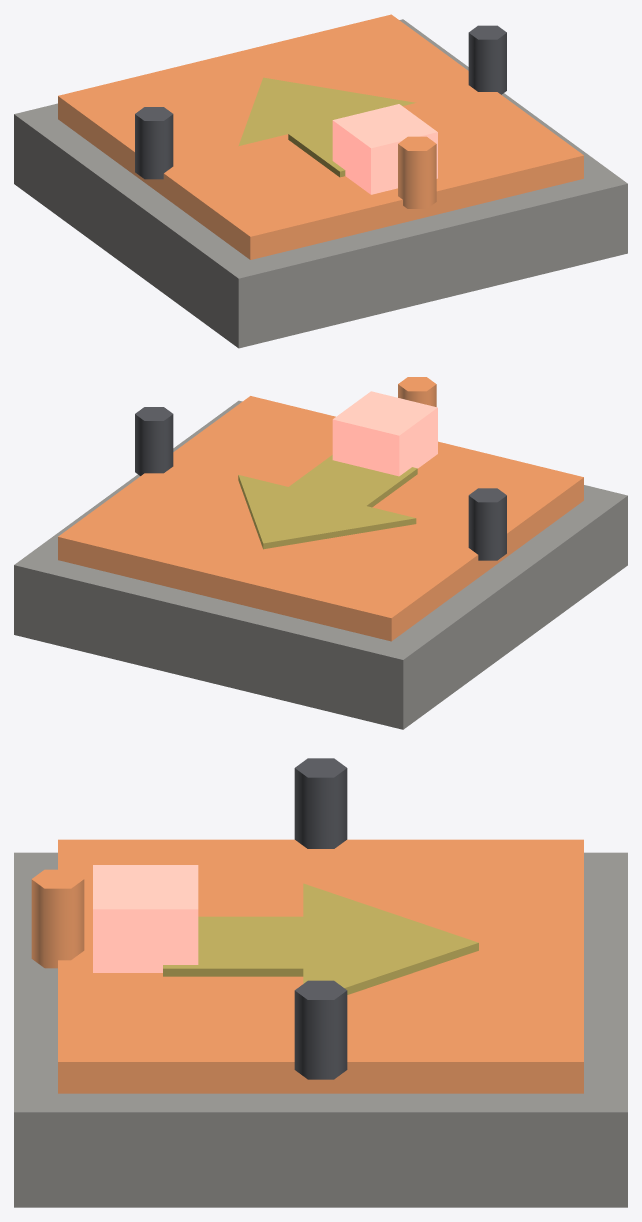
File: build_gate_not.glb
3 renders of one model, top to bottom at view 1: azimuth 30°, elevation 25°; view 2: azimuth 150°, elevation 25°; view 3: azimuth 270°, elevation 25°, orthographic. The views are drawn at different scales.
Parts seen in each view (by area): view 1: Baked; view 2: Baked; view 3: Baked.
Part boxes in pixels (x1,y1,x2,y2): Baked: (14, 14, 627, 348); Baked: (14, 377, 627, 729); Baked: (14, 758, 627, 1207).
Bounding box in the file's own units: 0.7 × 0.25 × 0.7.
